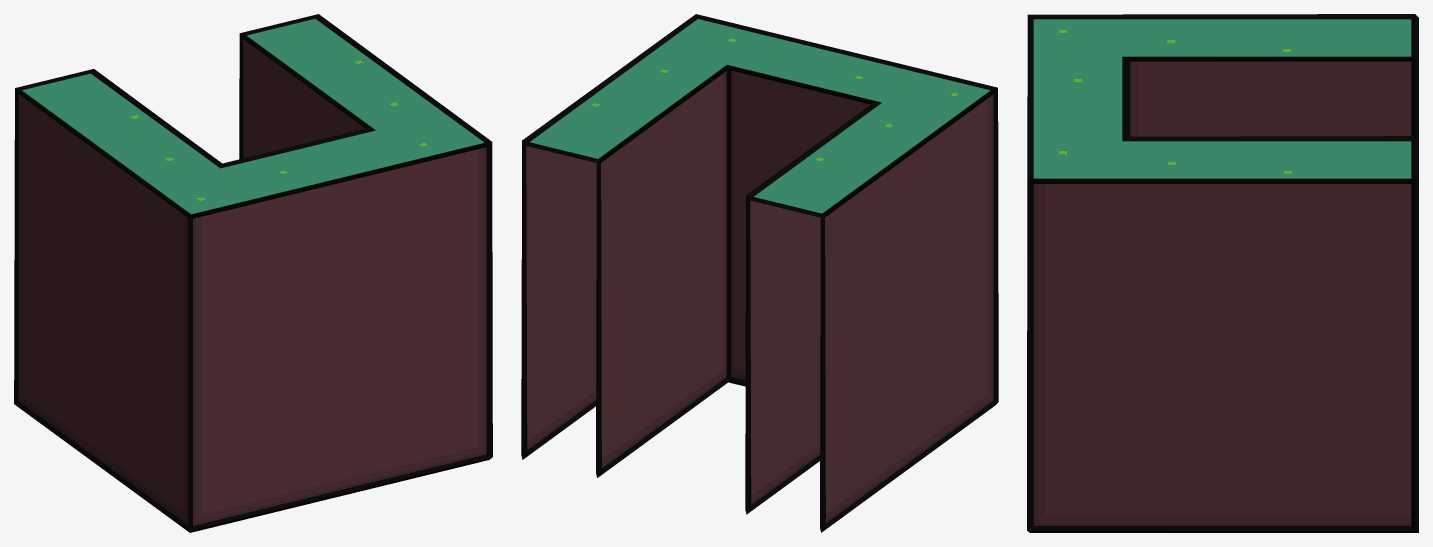
The model's file is Pit_Single_Down_Top_Up.glb.
The picture shows the model from 3 angles, left to right: view 1: azimuth 30°, elevation 25°; view 2: azimuth 150°, elevation 25°; view 3: azimuth 270°, elevation 25°; orthographic projection. The views are drawn at different scales.
Visible parts, largest first — view 1: Water_1_Pit_Single_Down_Top_Up; view 2: Water_1_Pit_Single_Down_Top_Up; view 3: Water_1_Pit_Single_Down_Top_Up.
Part boxes in pixels (box(x1,y1,x2,y2)): Water_1_Pit_Single_Down_Top_Up: box(14, 14, 492, 532); Water_1_Pit_Single_Down_Top_Up: box(521, 14, 998, 532); Water_1_Pit_Single_Down_Top_Up: box(1027, 14, 1418, 532).
Size of the model in its own units: 1.02 by 1.02 by 1.02.
Materials: 5 (4 with a texture image).
